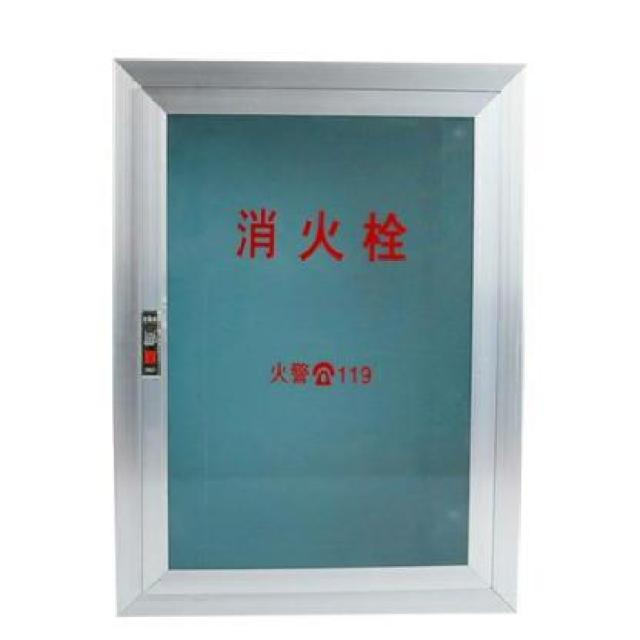firehydrant: (106, 52, 532, 622)
